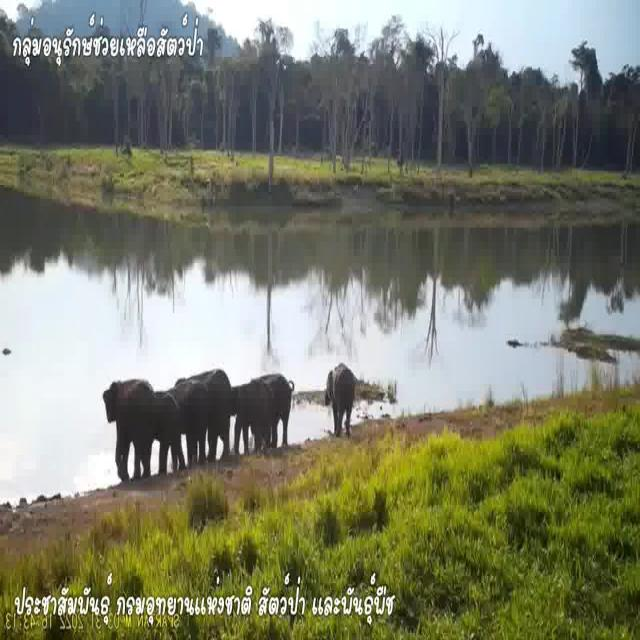Elephant: (107, 374, 152, 474), (193, 360, 236, 460), (233, 368, 288, 445), (171, 373, 208, 463), (150, 390, 186, 470), (325, 363, 353, 432)
